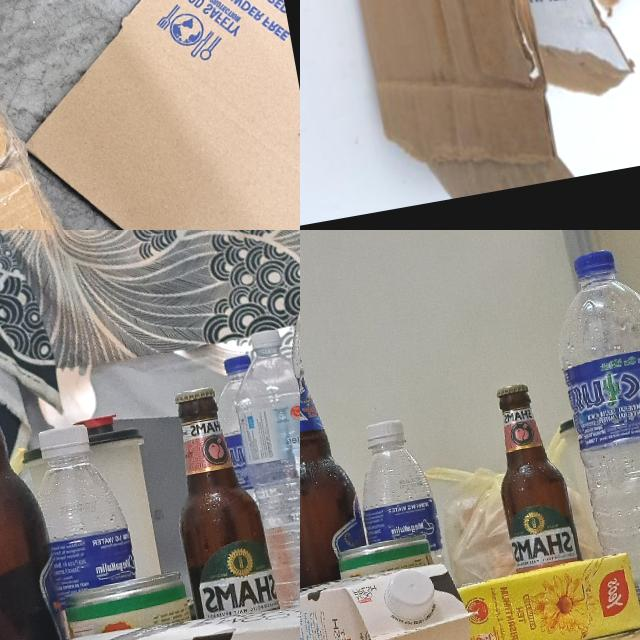caixinha: (437, 546, 640, 640), (0, 587, 300, 640), (300, 563, 479, 640)
garrafa de vidro: (158, 382, 278, 630), (0, 305, 88, 640), (478, 379, 582, 596), (300, 345, 372, 603)
garrafa plástica: (551, 276, 640, 635), (24, 447, 138, 618), (233, 353, 300, 617), (349, 442, 448, 596)
lata: (63, 569, 192, 640)
papelão: (0, 0, 300, 230), (311, 0, 640, 208), (0, 0, 117, 230)
tampa plástica: (379, 568, 441, 626), (34, 418, 94, 465), (570, 244, 617, 280), (362, 415, 400, 446), (222, 348, 252, 378), (256, 320, 278, 349)
